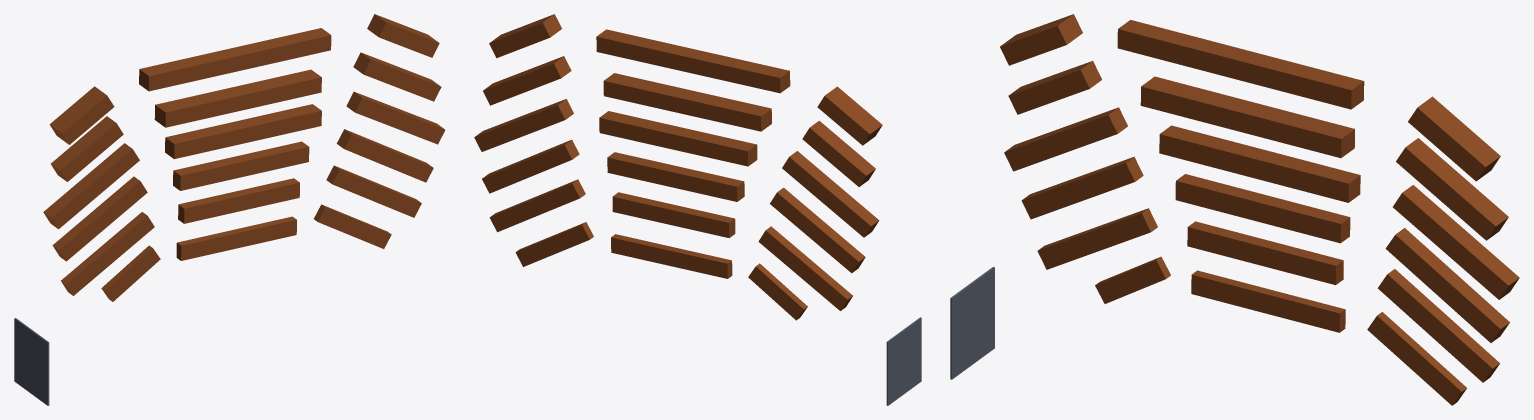
File: obstacles_combined.obj
3 views of the same model, side by side, from view 1: azimuth 30°, elevation 25°; view 2: azimuth 150°, elevation 25°; view 3: azimuth 330°, elevation 25° (orthographic). The views are drawn at different scales.
Visible parts, largest first — view 1: desk_mid_06, desk_mid_05, desk_mid_04, desk_mid_03, desk_mid_02, desk_left_04, desk_mid_01, desk_left_03, door, desk_left_02, desk_right_04, desk_left_05 (+7 smaller); view 2: desk_mid_06, desk_mid_05, desk_mid_04, desk_mid_03, desk_mid_02, desk_left_04, desk_mid_01, desk_left_03, door, desk_left_02, desk_right_04, desk_left_05 (+7 smaller); view 3: desk_mid_06, desk_mid_05, desk_mid_04, desk_mid_03, desk_right_04, desk_mid_02, desk_right_03, desk_right_05, desk_mid_01, desk_right_02, door, desk_right_06 (+7 smaller).
Part boxes in pixels (x1,y1,x2,y2): desk_mid_06: (139, 28, 331, 91); desk_mid_05: (154, 69, 321, 127); desk_mid_04: (165, 104, 321, 159); desk_mid_03: (173, 141, 309, 190); desk_mid_02: (178, 178, 299, 223); desk_left_04: (43, 143, 139, 229); desk_mid_01: (176, 216, 296, 260); desk_left_03: (52, 176, 147, 261); door: (14, 318, 49, 405); desk_left_02: (61, 212, 154, 295); desk_right_04: (346, 91, 445, 144); desk_left_05: (51, 116, 123, 181); desk_mid_06: (596, 29, 790, 93); desk_mid_05: (603, 73, 771, 131); desk_mid_04: (599, 111, 757, 166); desk_mid_03: (607, 152, 744, 201); desk_mid_02: (612, 192, 735, 237); desk_left_04: (782, 151, 879, 237); desk_mid_01: (611, 234, 732, 278); desk_left_03: (770, 187, 865, 273); door: (886, 317, 921, 405); desk_left_02: (758, 226, 852, 310); desk_right_04: (474, 99, 573, 151); desk_left_05: (802, 120, 875, 186); desk_mid_06: (1117, 20, 1364, 109); desk_mid_05: (1140, 76, 1354, 158); desk_mid_04: (1159, 125, 1360, 202); desk_mid_03: (1175, 174, 1350, 243); desk_right_04: (1393, 185, 1519, 299); desk_mid_02: (1187, 221, 1343, 285); desk_right_03: (1385, 228, 1509, 342); desk_right_05: (1396, 138, 1508, 240); desk_mid_01: (1191, 270, 1345, 332); desk_right_02: (1377, 269, 1499, 382); door: (950, 267, 994, 379); desk_right_06: (1408, 96, 1500, 181).
Size of the model in its own units: 14.4 by 9.6 by 2.
